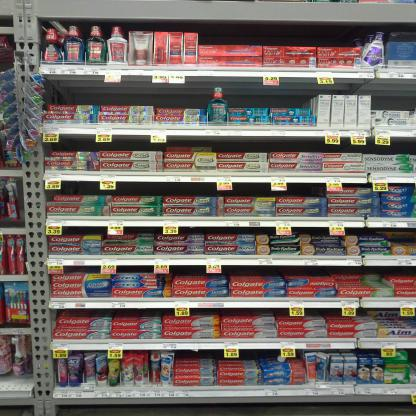Void: (52, 80, 207, 104), (200, 22, 353, 46), (228, 81, 310, 107), (216, 138, 321, 152), (120, 184, 210, 196), (230, 266, 359, 274), (375, 82, 415, 107), (234, 184, 270, 195), (62, 226, 102, 235), (61, 138, 96, 148), (291, 184, 324, 194), (68, 184, 99, 194), (116, 138, 146, 148), (62, 264, 99, 271), (384, 268, 412, 276), (396, 141, 415, 152), (180, 267, 204, 274), (124, 267, 156, 272)
